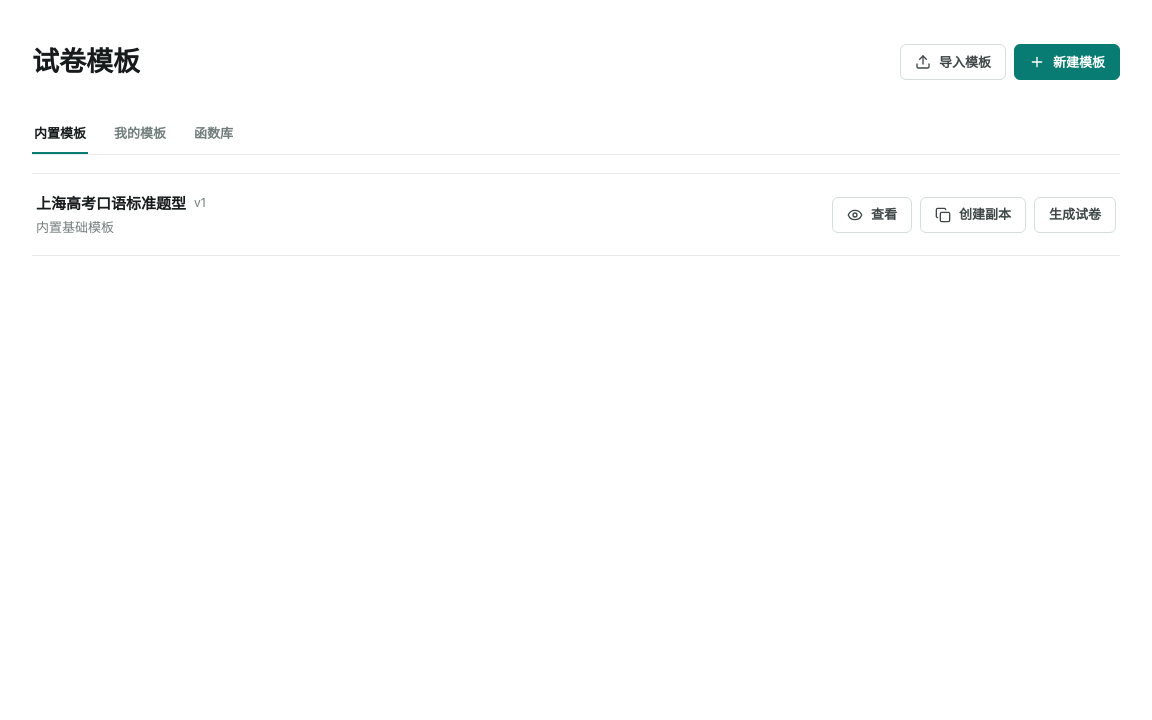
Test: Template pages › deletes a template from the browser after confirmation
Click the tab "我的模板": click(140, 133) top-left (112, 112), bottom-right (168, 154)
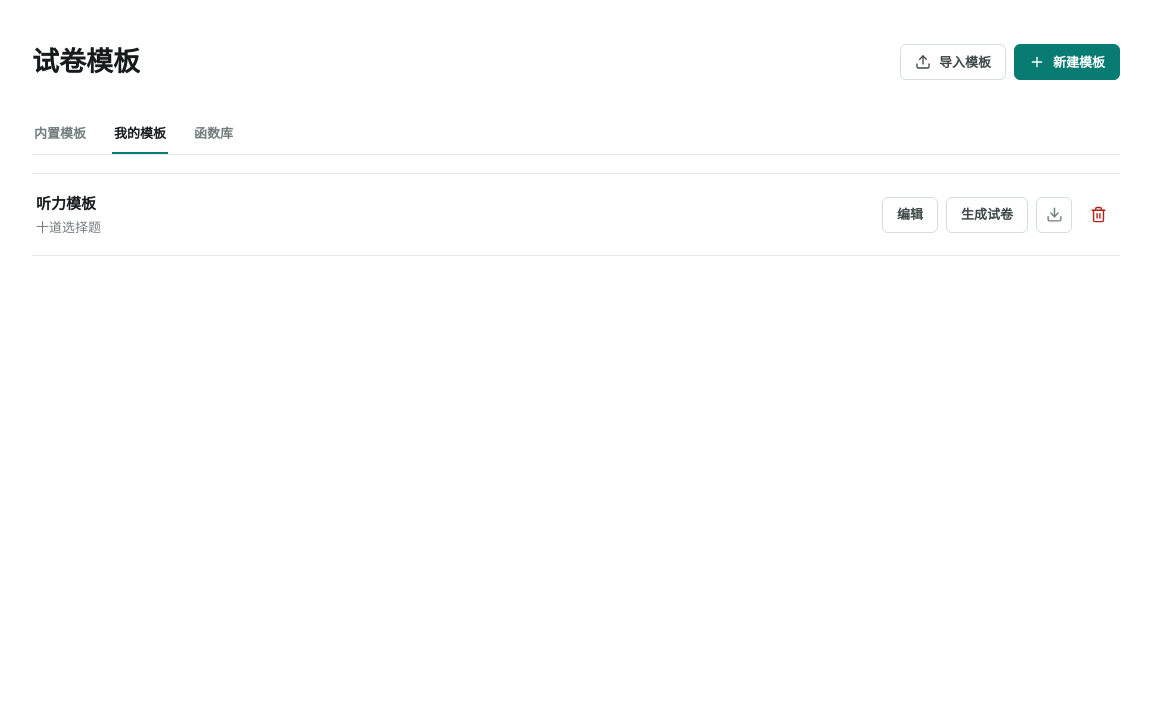
Check: the button "听力模板" is shown, box top-left (36, 192), bottom-right (96, 213)
Click the button named "删除模板“听力模板”": click(1098, 214) top-left (1080, 196), bottom-right (1116, 232)
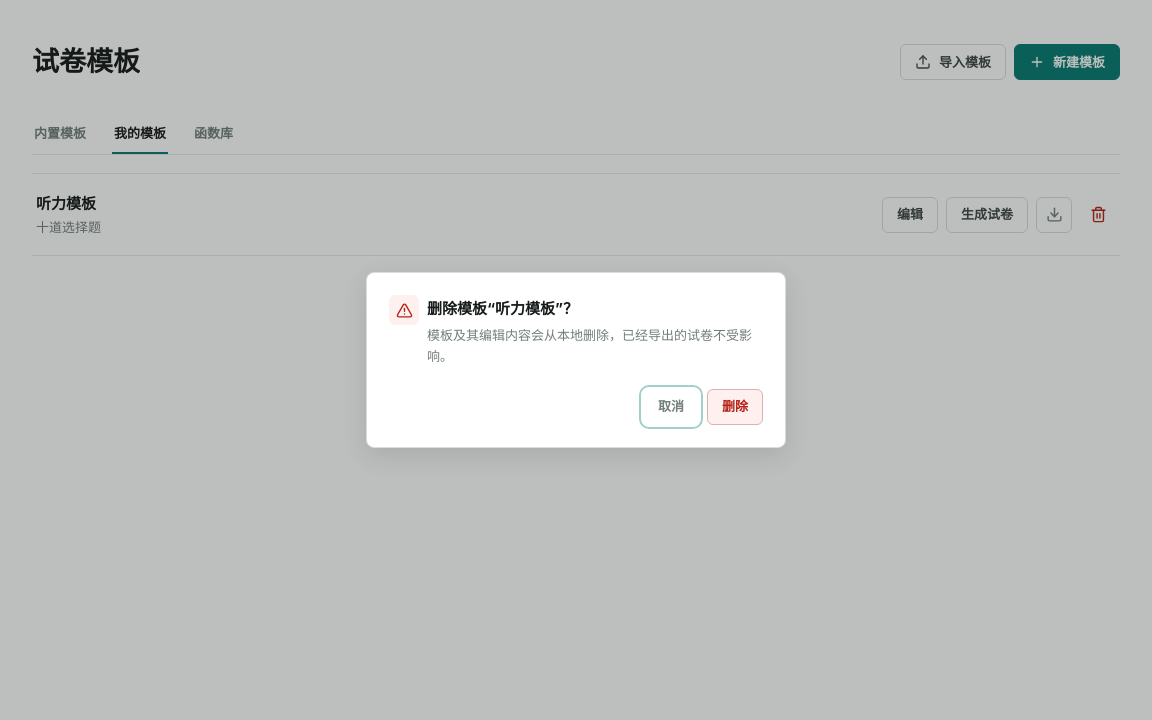
Click the button "删除": click(735, 407) top-left (707, 389), bottom-right (763, 425)
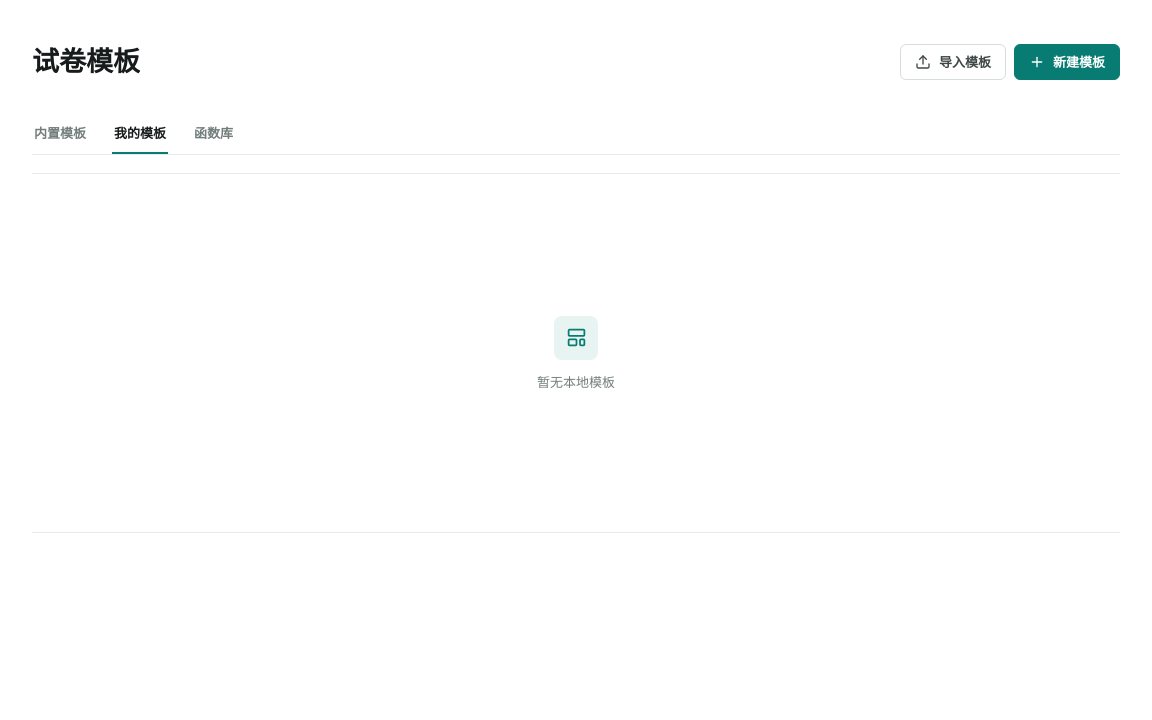
Check: the button "听力模板" is gone
